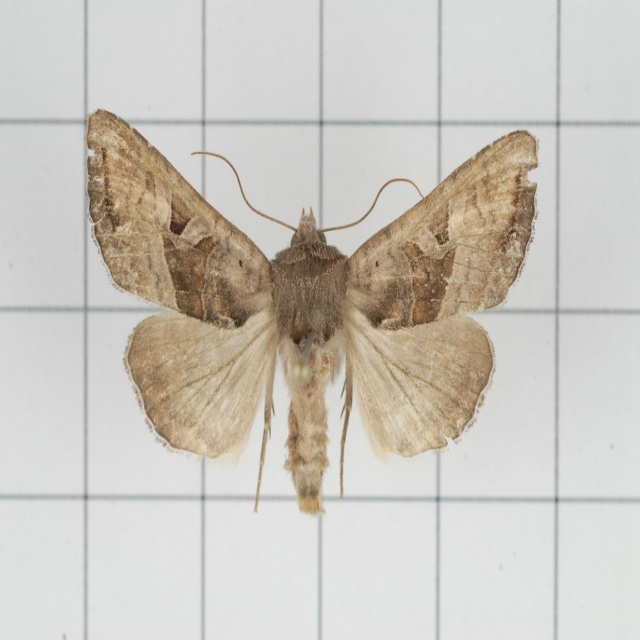Butterfly: (87, 120, 527, 514)
